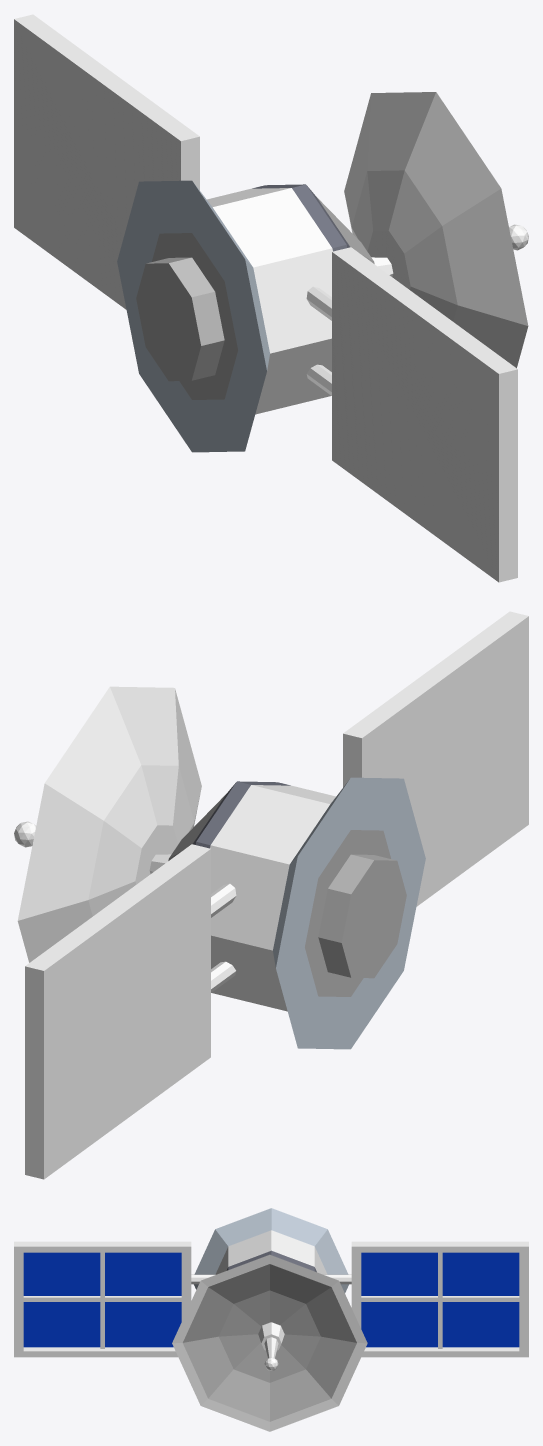
Rendered from Satellite1.glb.
3 views of the same model, one above another, from view 1: azimuth 30°, elevation 25°; view 2: azimuth 150°, elevation 25°; view 3: azimuth 270°, elevation 25° (orthographic). The views are drawn at different scales.
Visible parts, largest first — view 1: Satellite1-main, Satellite1-panelLeft, Satellite1-panelRight, Satellite1-head; view 2: Satellite1-main, Satellite1-panelRight, Satellite1-panelLeft, Satellite1-head; view 3: Satellite1-head, Satellite1-panelRight, Satellite1-panelLeft, Satellite1-main.
Boxes of the visible parts, x1,y1,x2,y2 form: Satellite1-main: (117, 180, 393, 452); Satellite1-panelLeft: (306, 247, 517, 582); Satellite1-panelRight: (14, 14, 199, 309); Satellite1-head: (344, 92, 528, 368); Satellite1-main: (149, 777, 425, 1049); Satellite1-panelRight: (25, 844, 236, 1179); Satellite1-panelLeft: (343, 611, 528, 906); Satellite1-head: (14, 686, 201, 962); Satellite1-head: (172, 1254, 367, 1431); Satellite1-panelRight: (324, 1241, 528, 1357); Satellite1-panelLeft: (14, 1241, 215, 1357); Satellite1-main: (194, 1208, 348, 1292).
Size of the model in its own units: 3.6 by 3.2 by 8.43.
